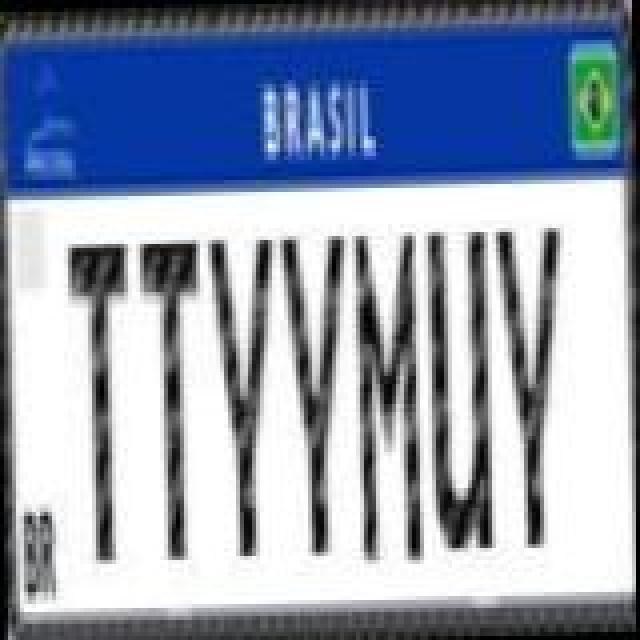M: (348, 226, 428, 570)
T: (64, 236, 136, 564), (136, 234, 208, 562)
U: (424, 222, 496, 554)
Y: (204, 228, 284, 560), (276, 228, 356, 556), (490, 216, 566, 552)
